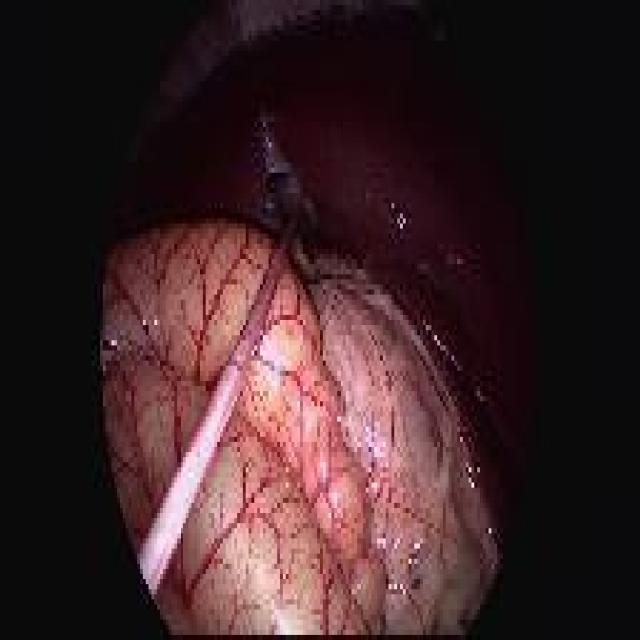contrast: (103, 1, 535, 247), (469, 247, 532, 632)
saturation: (142, 381, 237, 584), (243, 292, 334, 468)
specularity: (347, 412, 390, 465), (258, 331, 284, 387), (374, 527, 405, 558), (424, 322, 448, 359), (386, 198, 408, 233), (407, 536, 424, 572), (274, 606, 293, 635), (326, 485, 340, 524), (384, 578, 407, 601), (316, 453, 329, 482), (464, 465, 476, 494), (457, 422, 467, 455), (301, 413, 313, 440), (102, 334, 117, 355), (367, 479, 383, 498), (292, 393, 305, 414), (139, 318, 151, 339), (153, 315, 162, 341), (450, 252, 462, 268), (411, 578, 420, 596), (264, 135, 272, 150), (485, 523, 493, 537), (269, 161, 277, 175)
